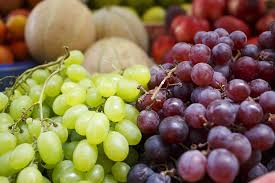Green grapes: (28, 70, 126, 169)
Red Grapes: (164, 93, 262, 178)
